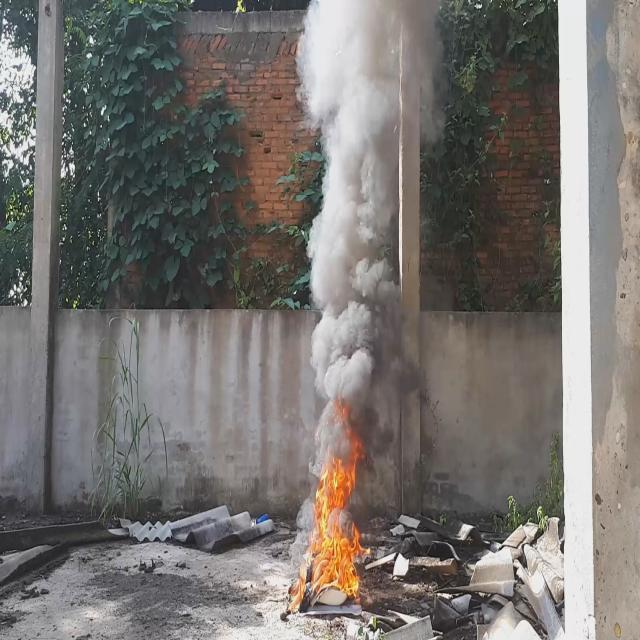Fire: (288, 432, 371, 614)
Smoke: (298, 0, 450, 430)
